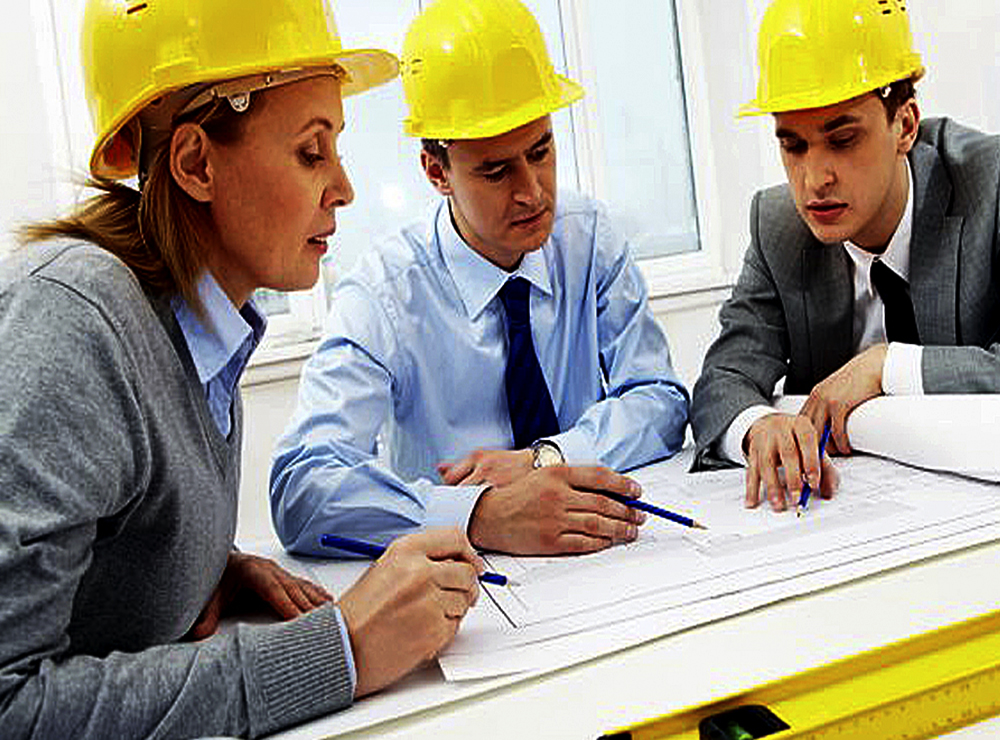Casco de seguridad: (80, 0, 397, 177), (401, 0, 583, 139), (739, 0, 924, 116)
